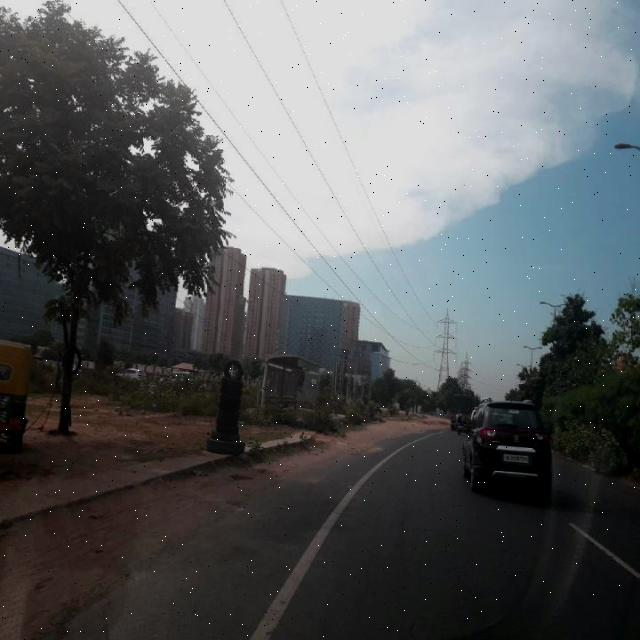D20: (304, 488, 580, 626)
